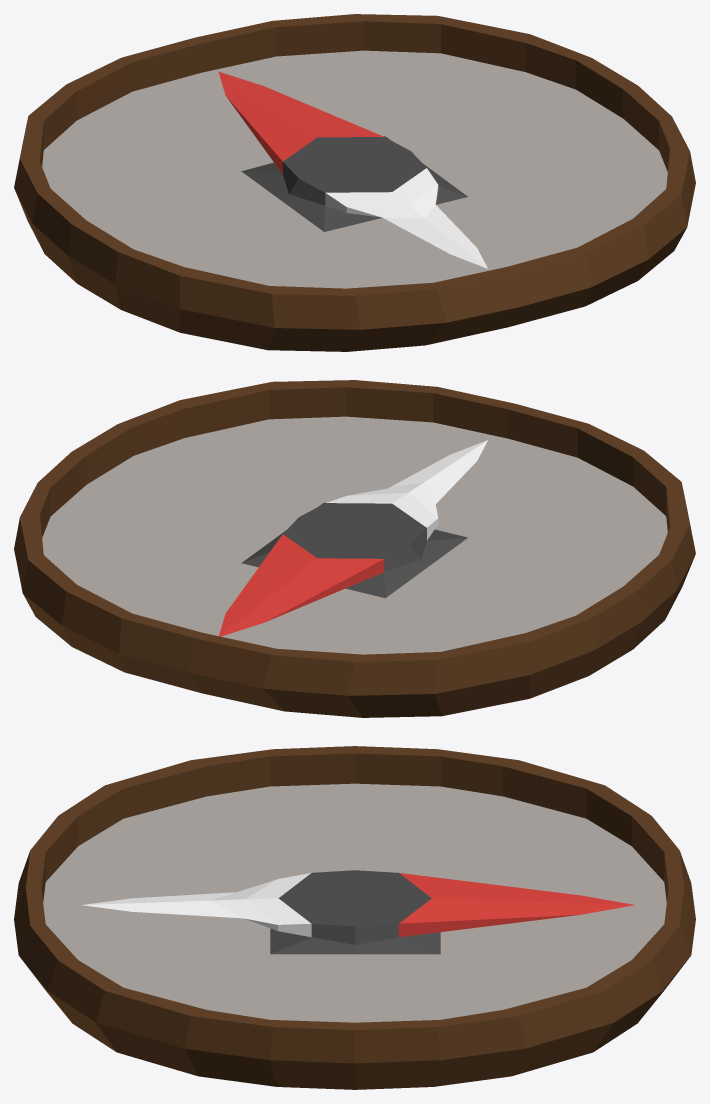
The model's file is Compass.fbx.
3 views of the same model, one above another, from view 1: azimuth 30°, elevation 25°; view 2: azimuth 150°, elevation 25°; view 3: azimuth 270°, elevation 25° (orthographic). The views are drawn at different scales.
Parts seen in each view (by area): view 1: Compass; view 2: Compass; view 3: Compass.
Boxes of the visible parts, left/top/right/bottom form: Compass: left=14, top=14, right=695, bottom=351; Compass: left=14, top=380, right=695, bottom=717; Compass: left=14, top=746, right=695, bottom=1089.
Size of the model in its own units: 5 by 0.505 by 5.
